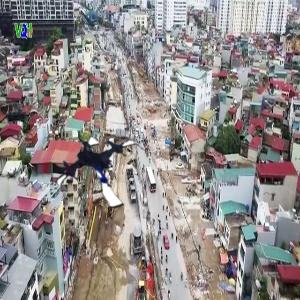drone: (56, 124, 152, 220)
